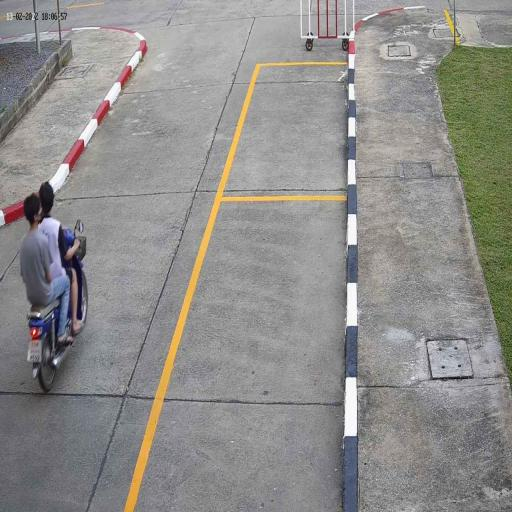motorcycle: (24, 267, 90, 396)
